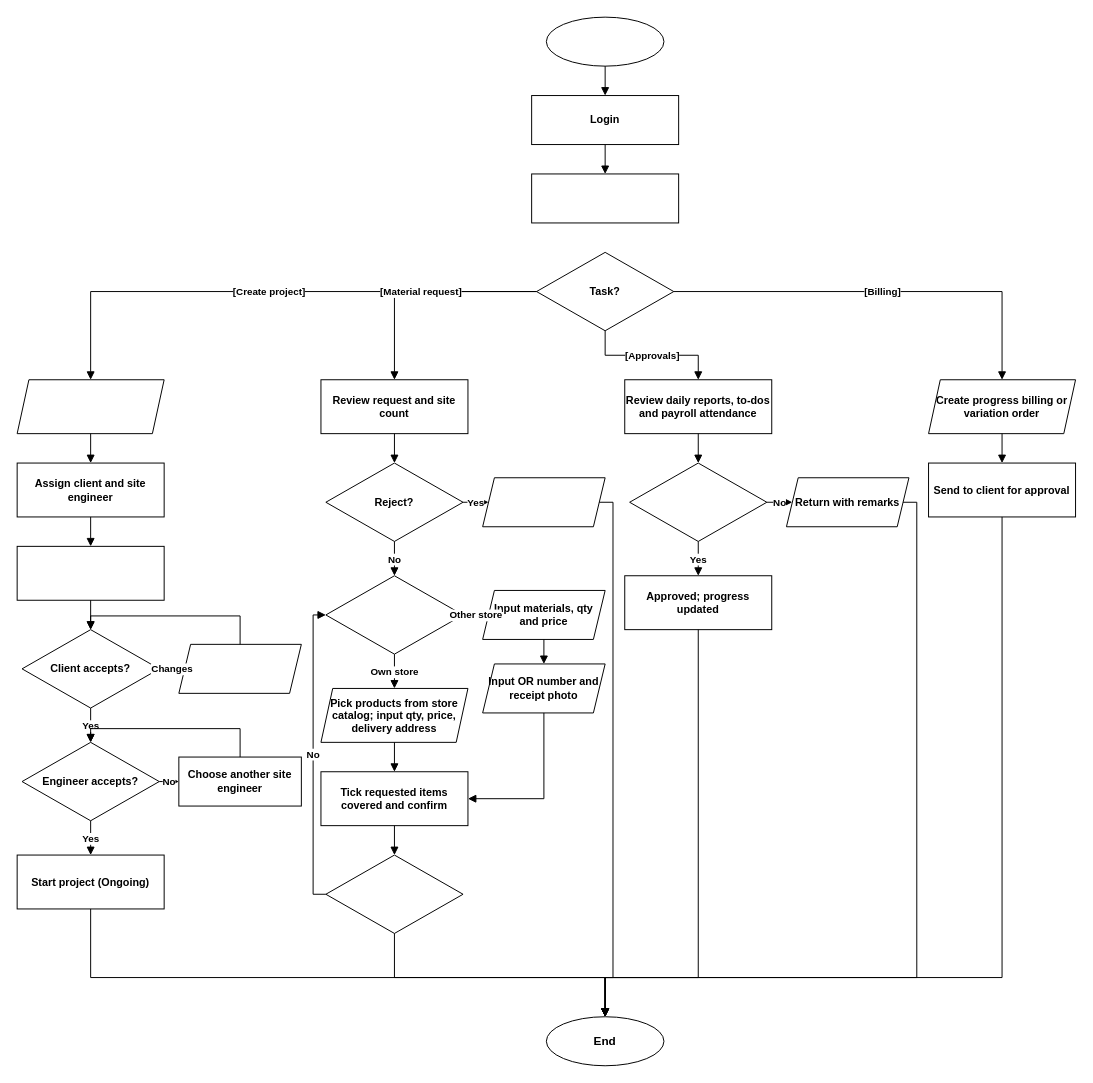
The diagram is 1093 pixels wide and 1083 high, and some of its shapes have lost their labels. Here are the shapes that lost their labels. From the top down, the centre of each, then its label:
the point at 604,41: Start
the point at 605,198: View dashboard and approvals
the point at 90,406: Input project details, site location and category budgets
the point at 543,502: Input reason
the point at 698,501: Approve?
the point at 90,572: Send project request to client
the point at 394,614: Source?
the point at 239,668: Revise and resend to client
the point at 394,893: All covered?
